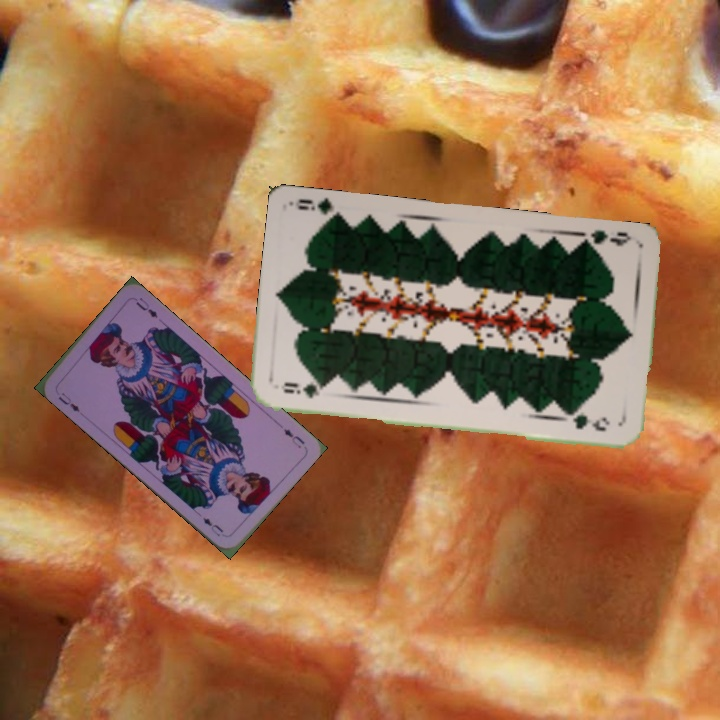EU: (55, 388, 83, 415), (279, 424, 307, 451)
G9: (580, 226, 634, 252), (279, 378, 329, 401)
